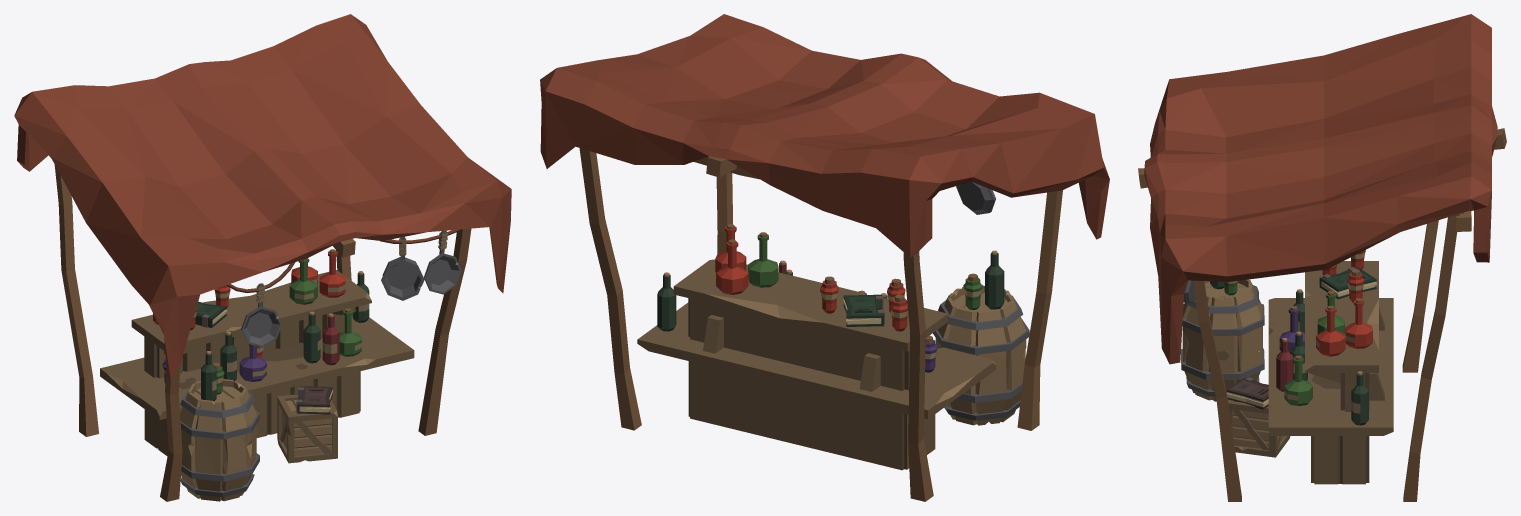
File: fairstall.glb
3 renders of one model, left to right at view 1: azimuth 30°, elevation 25°; view 2: azimuth 150°, elevation 25°; view 3: azimuth 270°, elevation 25°, orthographic. The views are drawn at different scales.
Parts seen in each view (by area): view 1: SM_Bld_Stall_03; view 2: SM_Bld_Stall_03; view 3: SM_Bld_Stall_03.
Part boxes in pixels (x1=…): SM_Bld_Stall_03: x1=14, y1=14, x2=511, y2=501; SM_Bld_Stall_03: x1=540, y1=14, x2=1109, y2=501; SM_Bld_Stall_03: x1=1138, y1=14, x2=1506, y2=501.
Size of the model in its own units: 6.38 by 5.48 by 5.37.
Materials: 1 (1 with a texture image).
